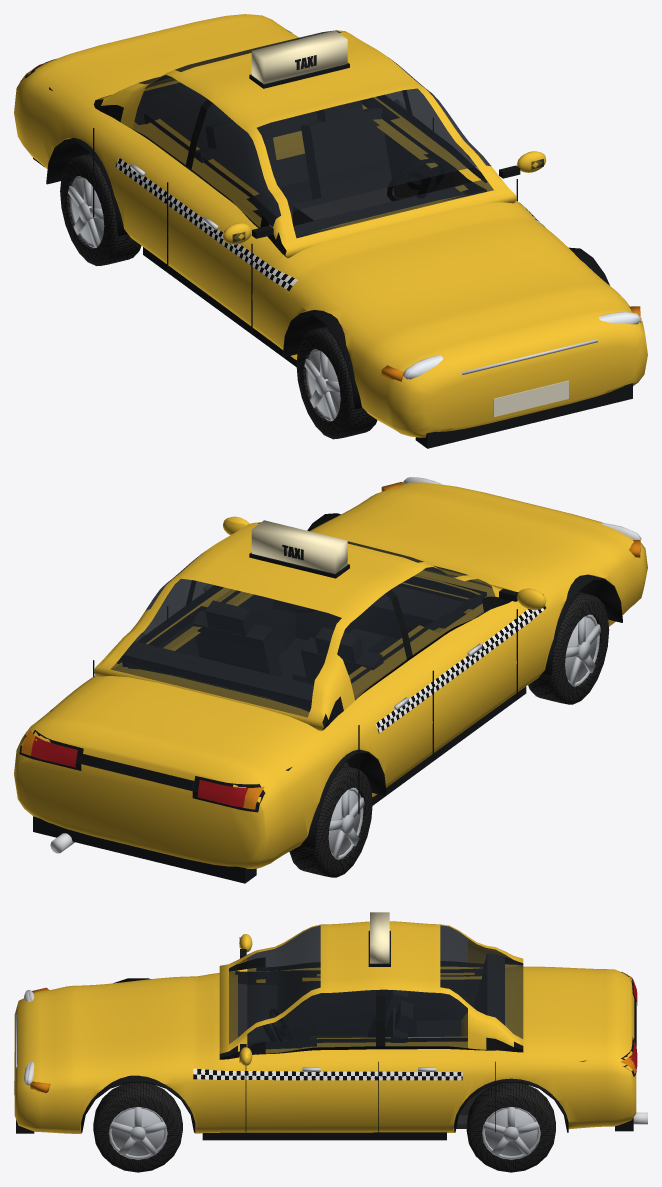
The model's file is car_taxi.glb.
3 renders of one model, top to bottom at view 1: azimuth 30°, elevation 25°; view 2: azimuth 150°, elevation 25°; view 3: azimuth 270°, elevation 25°, orthographic. The views are drawn at different scales.
Parts seen in each view (by area): view 1: Body, wheel_FR, wheel_RR, Door_L; view 2: Body, wheel_RR, wheel_FR, Door_L; view 3: Body, Door_L, wheel_FL, wheel_RL.
Boxes of the visible parts, x1,y1,x2,y2 form: Body: (14,14,647,448); wheel_FR: (296,326,377,439); wheel_RR: (60,153,141,265); Door_L: (392,60,518,188); Body: (14,477,647,883); wheel_RR: (289,765,372,877); wheel_FR: (528,592,609,704); Door_L: (190,519,245,608); Body: (14,912,647,1140); Door_L: (246,990,377,1129); wheel_FL: (93,1082,182,1172); wheel_RL: (466,1082,555,1172).
Bounding box in the file's own units: 2.24 × 1.64 × 4.83.
15 materials, 2 textured.
